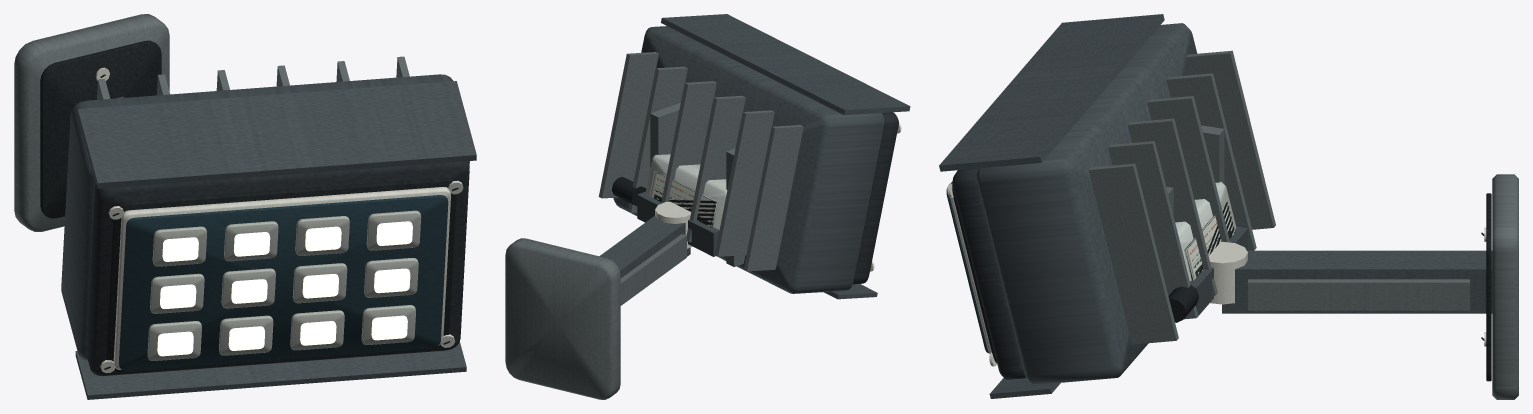
The model's file is PZ_Aimable_Floodlight.glb.
The picture shows the model from 3 angles, left to right: view 1: azimuth 30°, elevation 25°; view 2: azimuth 150°, elevation 25°; view 3: azimuth 270°, elevation 25°; orthographic projection. The views are drawn at different scales.
Parts seen in each view (by area): view 1: FLOOD_UpperVisor, FLOOD_GlassFace, FLOOD_AnodizedFrame, FLOOD_LowerVisor, FLOOD_WallMount, FLOOD_LampHeatSinkBody, FLOOD_MountRubber, FLOOD_FrontGasket, FLOOD_ReflectorPanel, FLOOD_ReflectorCell_1_1, FLOOD_ReflectorCell_0_2, FLOOD_ReflectorCell_0_0 (+21 smaller); view 2: FLOOD_LampHeatSinkBody, FLOOD_WallMount, FLOOD_UpperVisor, FLOOD_CoolingFin_0, FLOOD_CoolingFin_1, FLOOD_CoolingFin_5, FLOOD_CoolingFin_3, FLOOD_CoolingFin_2, FLOOD_AnodizedFrame, FLOOD_SupportArm, FLOOD_CoolingFin_4, FLOOD_ArmWeb_L (+8 smaller); view 3: FLOOD_LampHeatSinkBody, FLOOD_UpperVisor, FLOOD_SupportArm, FLOOD_CoolingFin_5, FLOOD_ArmWeb_R, FLOOD_WallMount, FLOOD_AnodizedFrame, FLOOD_CoolingFin_0, FLOOD_CoolingFin_4, FLOOD_CoolingFin_3, FLOOD_CoolingFin_2, FLOOD_CoolingFin_1 (+11 smaller).
Boxes of the visible parts, bbox=[...] form: FLOOD_UpperVisor: bbox=[77, 81, 476, 188]; FLOOD_GlassFace: bbox=[118, 195, 448, 370]; FLOOD_AnodizedFrame: bbox=[86, 161, 469, 376]; FLOOD_LowerVisor: bbox=[75, 341, 466, 399]; FLOOD_WallMount: bbox=[14, 14, 169, 231]; FLOOD_LampHeatSinkBody: bbox=[61, 74, 469, 360]; FLOOD_MountRubber: bbox=[40, 40, 161, 218]; FLOOD_FrontGasket: bbox=[105, 178, 456, 371]; FLOOD_ReflectorPanel: bbox=[113, 187, 450, 369]; FLOOD_ReflectorCell_1_1: bbox=[221, 268, 275, 308]; FLOOD_ReflectorCell_0_2: bbox=[290, 310, 344, 350]; FLOOD_ReflectorCell_0_0: bbox=[147, 321, 201, 360]; FLOOD_LampHeatSinkBody: bbox=[613, 26, 884, 293]; FLOOD_WallMount: bbox=[505, 238, 620, 399]; FLOOD_UpperVisor: bbox=[661, 14, 910, 115]; FLOOD_CoolingFin_0: bbox=[743, 125, 803, 271]; FLOOD_CoolingFin_1: bbox=[714, 110, 774, 256]; FLOOD_CoolingFin_5: bbox=[598, 52, 658, 198]; FLOOD_CoolingFin_3: bbox=[661, 81, 716, 203]; FLOOD_CoolingFin_2: bbox=[687, 95, 745, 242]; FLOOD_AnodizedFrame: bbox=[853, 112, 898, 284]; FLOOD_SupportArm: bbox=[599, 216, 690, 278]; FLOOD_CoolingFin_4: bbox=[628, 66, 687, 212]; FLOOD_ArmWeb_L: bbox=[620, 234, 686, 305]; FLOOD_LampHeatSinkBody: bbox=[976, 23, 1197, 384]; FLOOD_UpperVisor: bbox=[939, 14, 1164, 171]; FLOOD_SupportArm: bbox=[1222, 250, 1492, 313]; FLOOD_CoolingFin_5: bbox=[1088, 163, 1178, 344]; FLOOD_ArmWeb_R: bbox=[1248, 279, 1469, 310]; FLOOD_WallMount: bbox=[1492, 174, 1518, 399]; FLOOD_AnodizedFrame: bbox=[952, 168, 1025, 379]; FLOOD_CoolingFin_0: bbox=[1186, 50, 1275, 229]; FLOOD_CoolingFin_4: bbox=[1108, 141, 1198, 319]; FLOOD_CoolingFin_3: bbox=[1127, 118, 1217, 295]; FLOOD_CoolingFin_2: bbox=[1147, 96, 1230, 242]; FLOOD_CoolingFin_1: bbox=[1166, 73, 1256, 250].
Bounding box in the file's own units: 0.3632 × 0.2676 × 0.5224.
2 materials, 2 textured.
